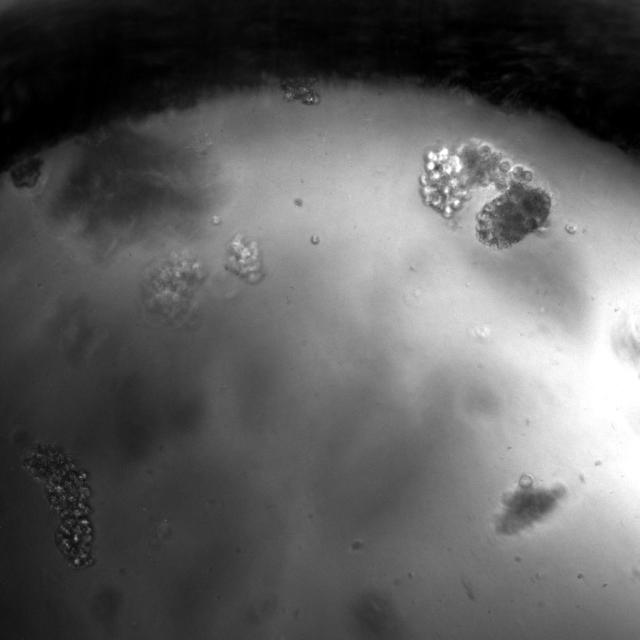organoid: (47, 128, 208, 259), (418, 138, 554, 251), (21, 443, 94, 568), (141, 252, 206, 326), (496, 474, 566, 535), (226, 234, 263, 283), (279, 78, 320, 105), (10, 158, 43, 188), (311, 234, 319, 244)
